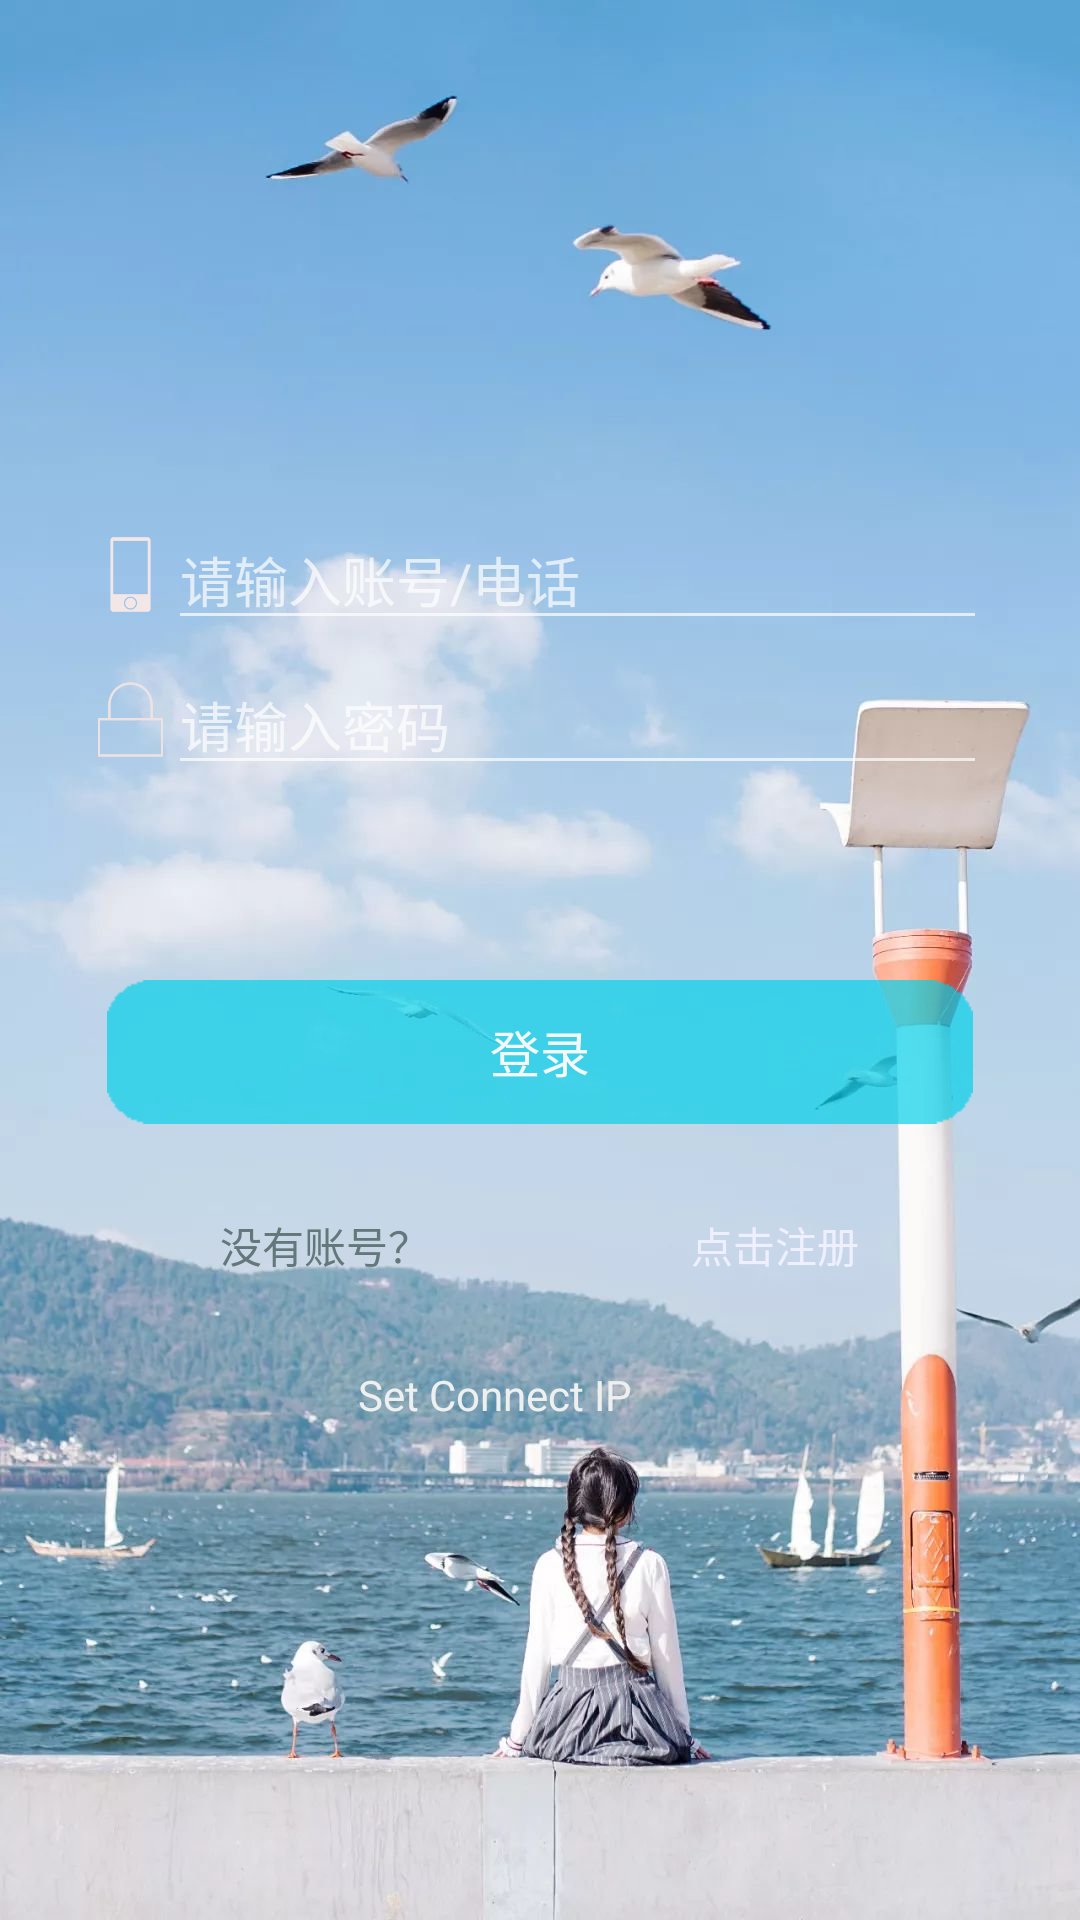

Screen size 1080 x 1920. Icon name, then its center in pixels as (x,y):
phone: (130,574)
